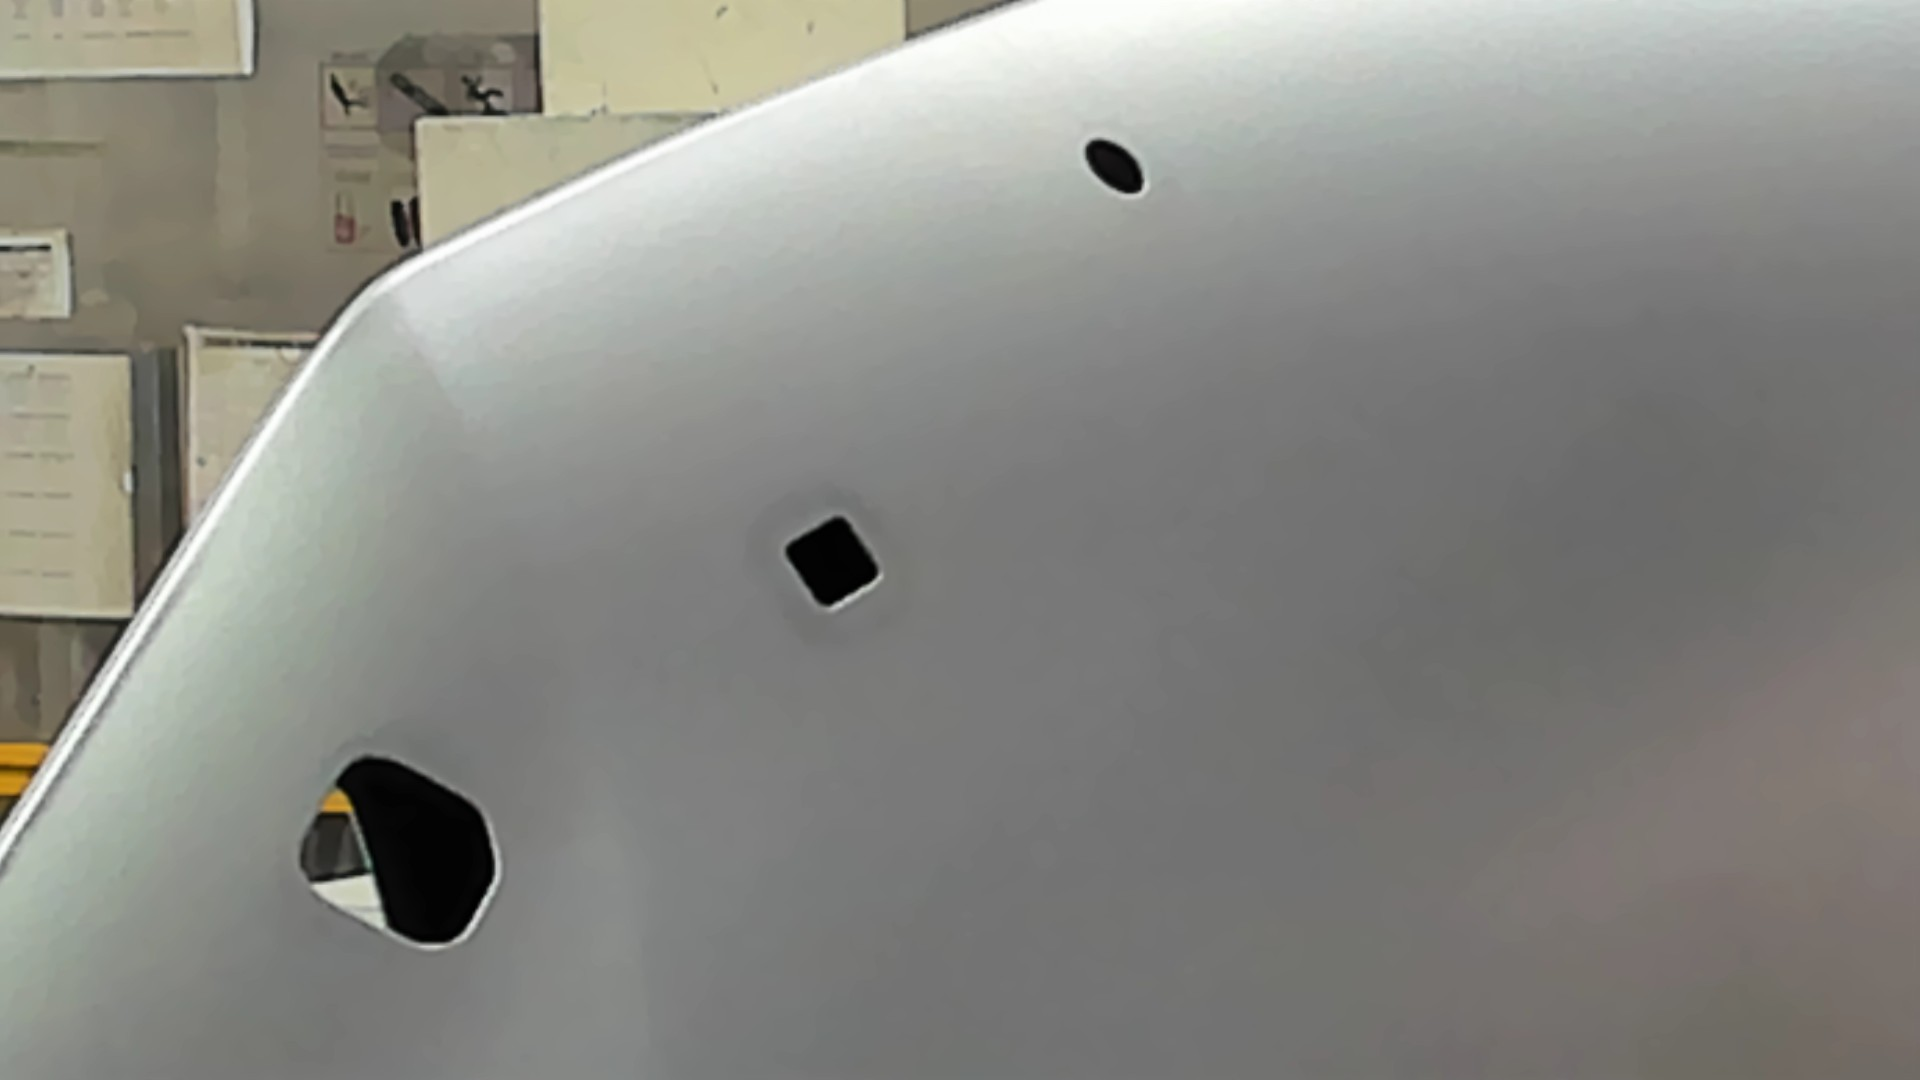chico: (1083, 135, 1149, 199)
grande: (294, 753, 506, 953)
mediano: (781, 512, 886, 615)
